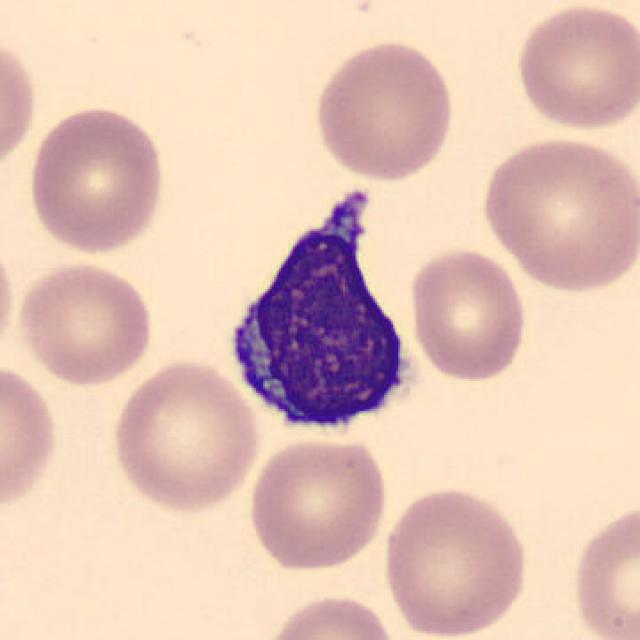Lymphocyte: (214, 176, 431, 450)
RBC: (475, 130, 638, 294), (107, 356, 263, 517), (379, 483, 533, 638), (23, 102, 169, 258), (309, 37, 459, 183), (244, 434, 391, 574), (13, 257, 158, 388), (405, 243, 530, 384), (510, 2, 638, 134), (567, 497, 638, 640), (0, 358, 62, 516), (258, 590, 400, 640), (0, 30, 39, 178), (0, 229, 18, 369)
